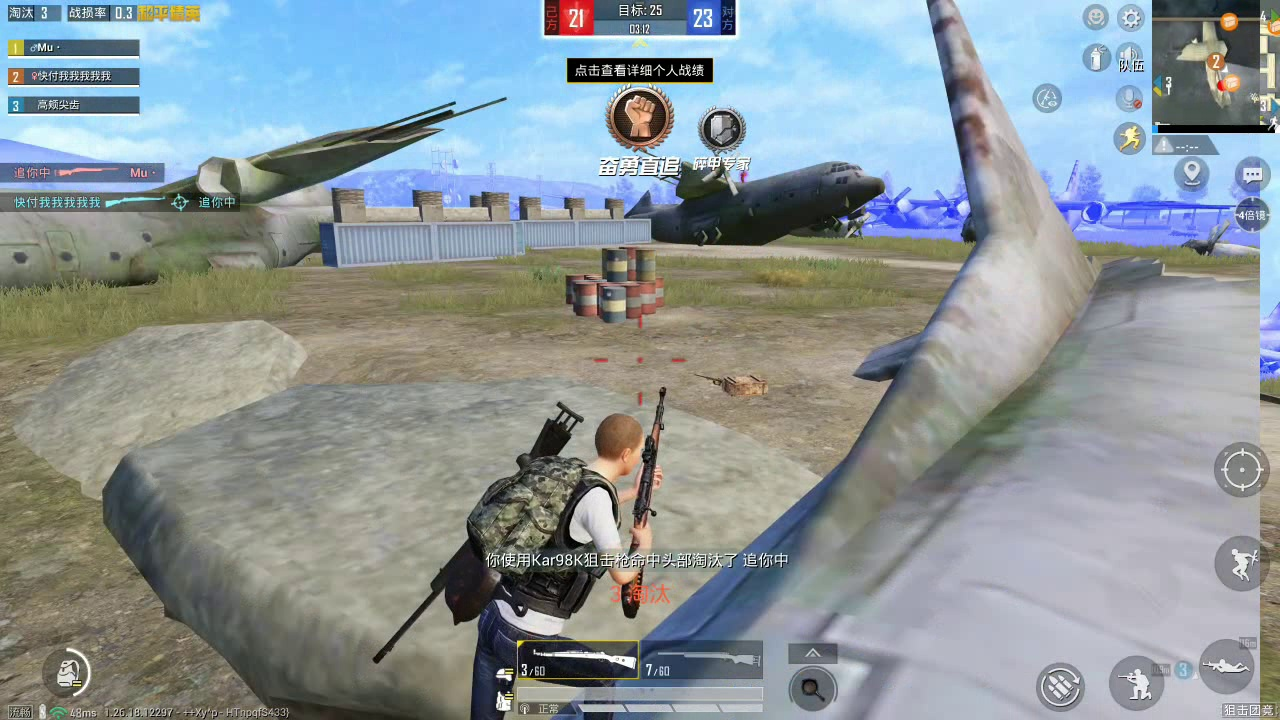enemy: (737, 166, 749, 186)
